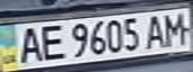0: (106, 16, 127, 54)
5: (121, 15, 145, 52)
6: (87, 18, 109, 56)
9: (66, 19, 90, 58)
A: (12, 24, 45, 64), (142, 12, 169, 50)
E: (36, 21, 66, 62)
M: (160, 10, 190, 47)
